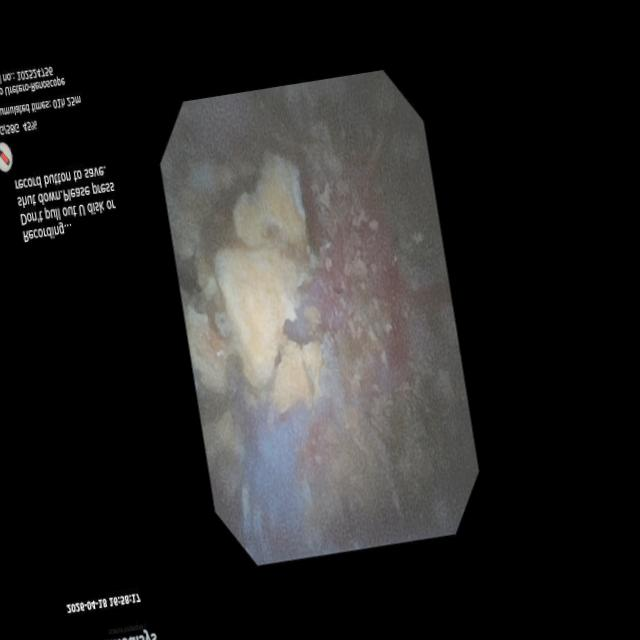stone-new: (215, 248, 298, 386), (161, 137, 232, 289), (234, 154, 306, 250), (181, 289, 229, 392), (202, 410, 244, 518), (271, 341, 323, 413)
